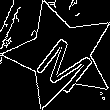M_NE: (25, 21, 96, 90)
